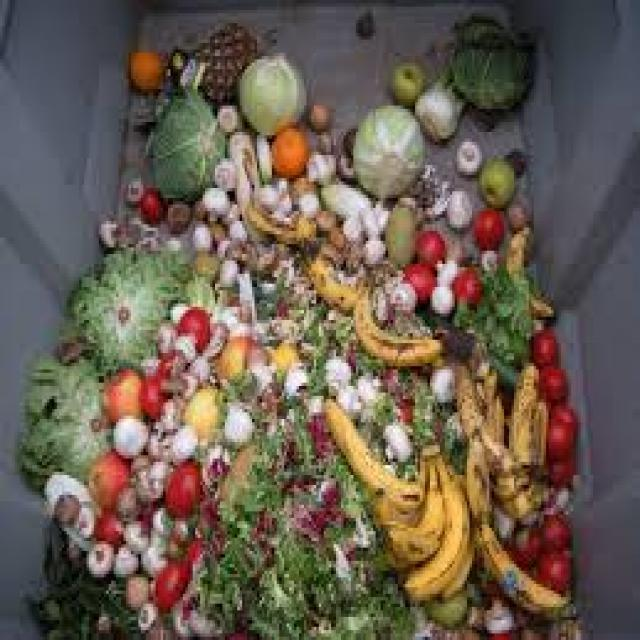Wet: (3, 31, 640, 640), (318, 356, 580, 640), (58, 222, 182, 378), (136, 82, 252, 212), (351, 64, 439, 222), (232, 36, 316, 146)
